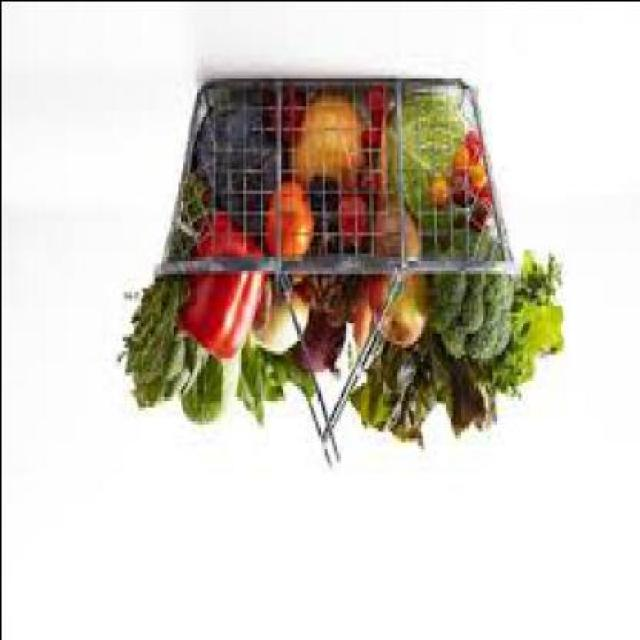BIODEGRADABLE: (118, 172, 217, 408), (177, 210, 266, 399), (349, 339, 498, 447), (471, 252, 563, 399), (386, 94, 472, 246), (198, 91, 287, 227), (426, 234, 512, 360), (286, 94, 368, 189), (237, 343, 317, 423), (265, 178, 317, 270), (450, 133, 493, 235), (251, 286, 312, 357), (372, 283, 431, 354), (298, 277, 359, 332), (371, 207, 424, 262), (295, 328, 348, 378), (184, 360, 224, 426), (331, 196, 372, 252), (265, 98, 307, 147), (345, 279, 372, 353), (363, 94, 391, 160), (431, 176, 454, 210)
